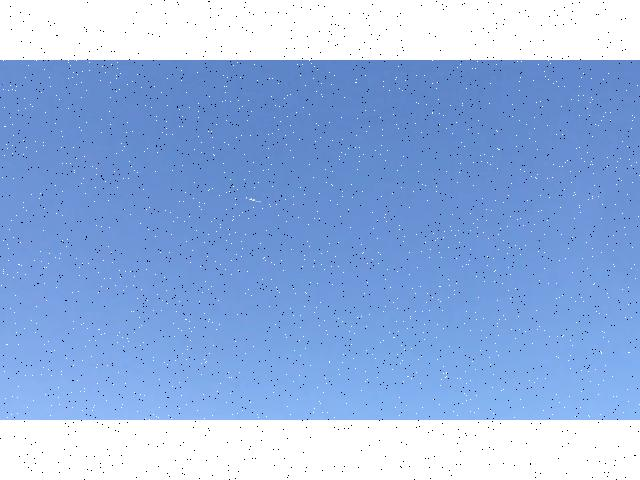Anti-Drone: (237, 187, 269, 213)
